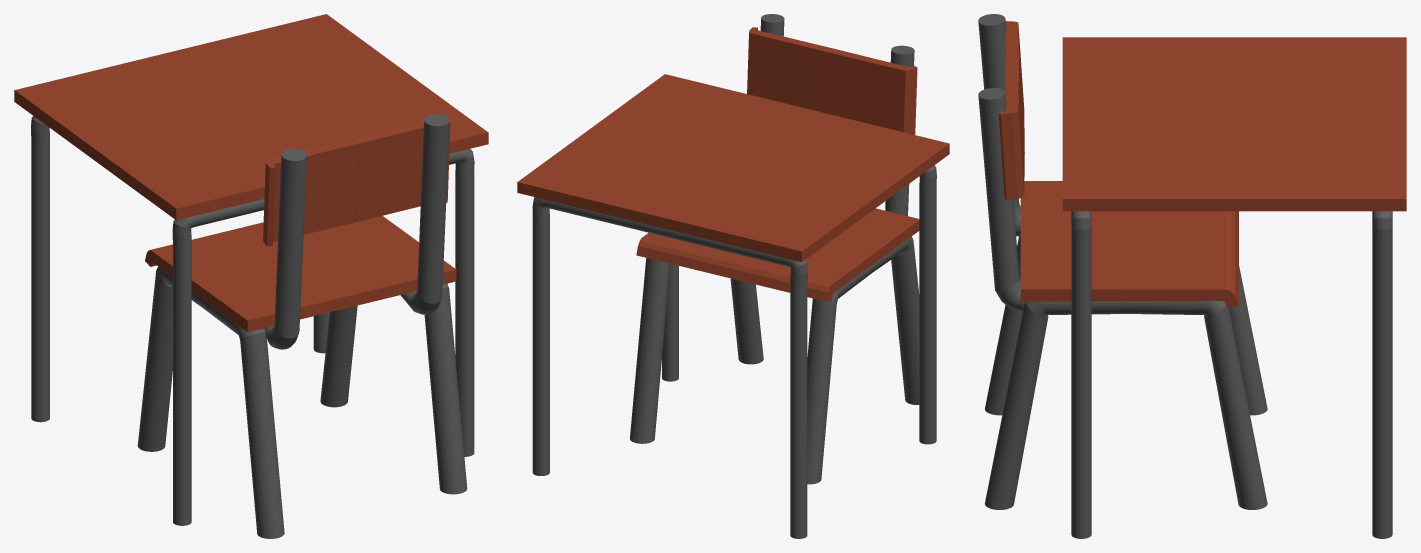
File: chairDesk.fbx
3 renders of one model, left to right at view 1: azimuth 30°, elevation 25°; view 2: azimuth 150°, elevation 25°; view 3: azimuth 270°, elevation 25°, orthographic. The views are drawn at different scales.
Visible parts, largest first — view 1: Desk, Chair; view 2: Desk, Chair; view 3: Desk, Chair.
Part boxes in pixels (x1,y1,x2,y2): Desk: (14,14,488,525); Chair: (137,114,467,538); Desk: (517,74,949,538); Chair: (630,14,919,484); Desk: (1062,37,1406,538); Chair: (978,14,1267,509).
Bounding box in the file's own units: 105 × 123 × 117.
